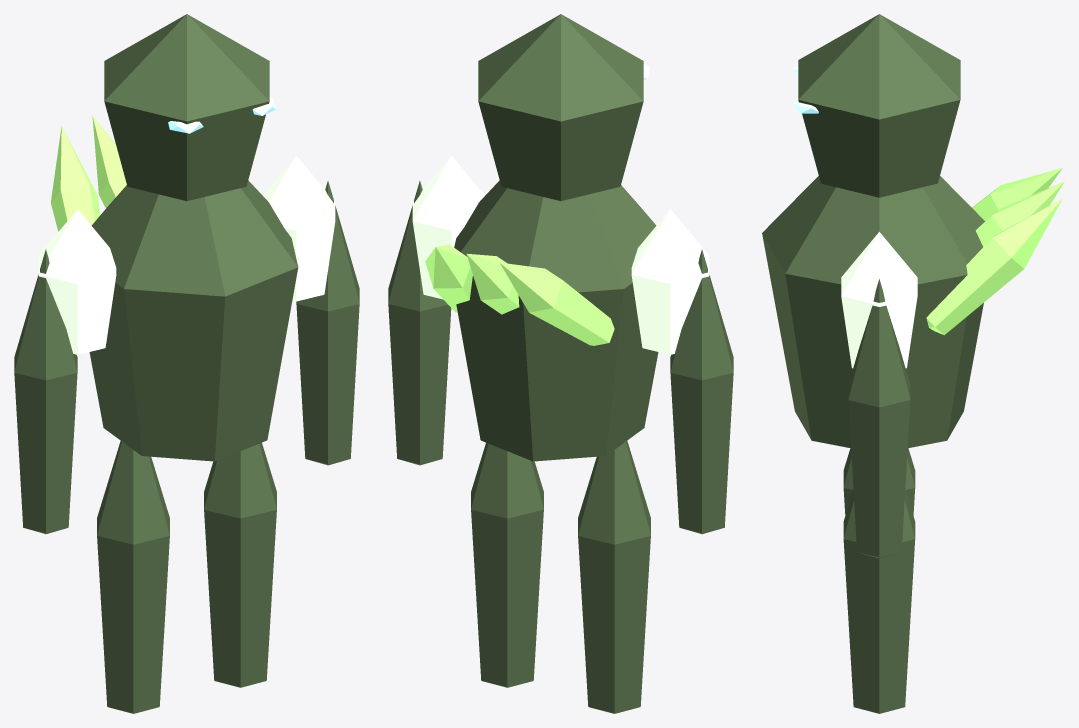
Rendered from deep-fracture-creature-CrystalRevenant-venom.glb.
3 renders of one model, left to right at view 1: azimuth 30°, elevation 25°; view 2: azimuth 150°, elevation 25°; view 3: azimuth 270°, elevation 25°, orthographic.
Visible parts, largest first — view 1: torso, helmet, leg-l, leg-r, arm-l, arm-r, armor-core-l, armor-core-r, back-crystal-0, back-crystal-1; view 2: torso, helmet, leg-l, leg-r, arm-l, arm-r, armor-core-l, armor-core-r, back-crystal-0, back-crystal-2, back-crystal-1; view 3: torso, helmet, arm-r, leg-r, armor-core-r, back-crystal-2, back-crystal-1, back-crystal-0, leg-l.
Boxes of the visible parts, x1=… form: torso: x1=89, y1=180, x2=298, y2=461; helmet: x1=104, y1=14, x2=269, y2=200; leg-l: x1=97, y1=440, x2=169, y2=713; leg-r: x1=204, y1=442, x2=276, y2=687; arm-l: x1=14, y1=249, x2=77, y2=534; arm-r: x1=296, y1=181, x2=359, y2=465; armor-core-l: x1=38, y1=209, x2=116, y2=354; armor-core-r: x1=263, y1=156, x2=335, y2=301; back-crystal-0: x1=50, y1=126, x2=100, y2=231; back-crystal-1: x1=92, y1=115, x2=126, y2=208; torso: x1=454, y1=180, x2=658, y2=461; helmet: x1=478, y1=14, x2=643, y2=200; leg-l: x1=578, y1=440, x2=650, y2=713; leg-r: x1=471, y1=442, x2=543, y2=687; arm-l: x1=670, y1=249, x2=733, y2=534; arm-r: x1=388, y1=181, x2=451, y2=465; armor-core-l: x1=631, y1=209, x2=709, y2=354; armor-core-r: x1=412, y1=156, x2=484, y2=299; back-crystal-0: x1=499, y1=262, x2=614, y2=345; back-crystal-2: x1=425, y1=244, x2=472, y2=312; back-crystal-1: x1=466, y1=253, x2=519, y2=314; torso: x1=762, y1=176, x2=984, y2=448; helmet: x1=798, y1=14, x2=960, y2=197; arm-r: x1=848, y1=279, x2=910, y2=558; leg-r: x1=843, y1=490, x2=915, y2=713; armor-core-r: x1=841, y1=232, x2=917, y2=368; back-crystal-2: x1=926, y1=198, x2=1062, y2=335; back-crystal-1: x1=975, y1=181, x2=1064, y2=246; back-crystal-0: x1=972, y1=168, x2=1062, y2=221; leg-l: x1=843, y1=448, x2=915, y2=515.
Bounding box in the file's own units: 1.42 × 2.7 × 1.1.
